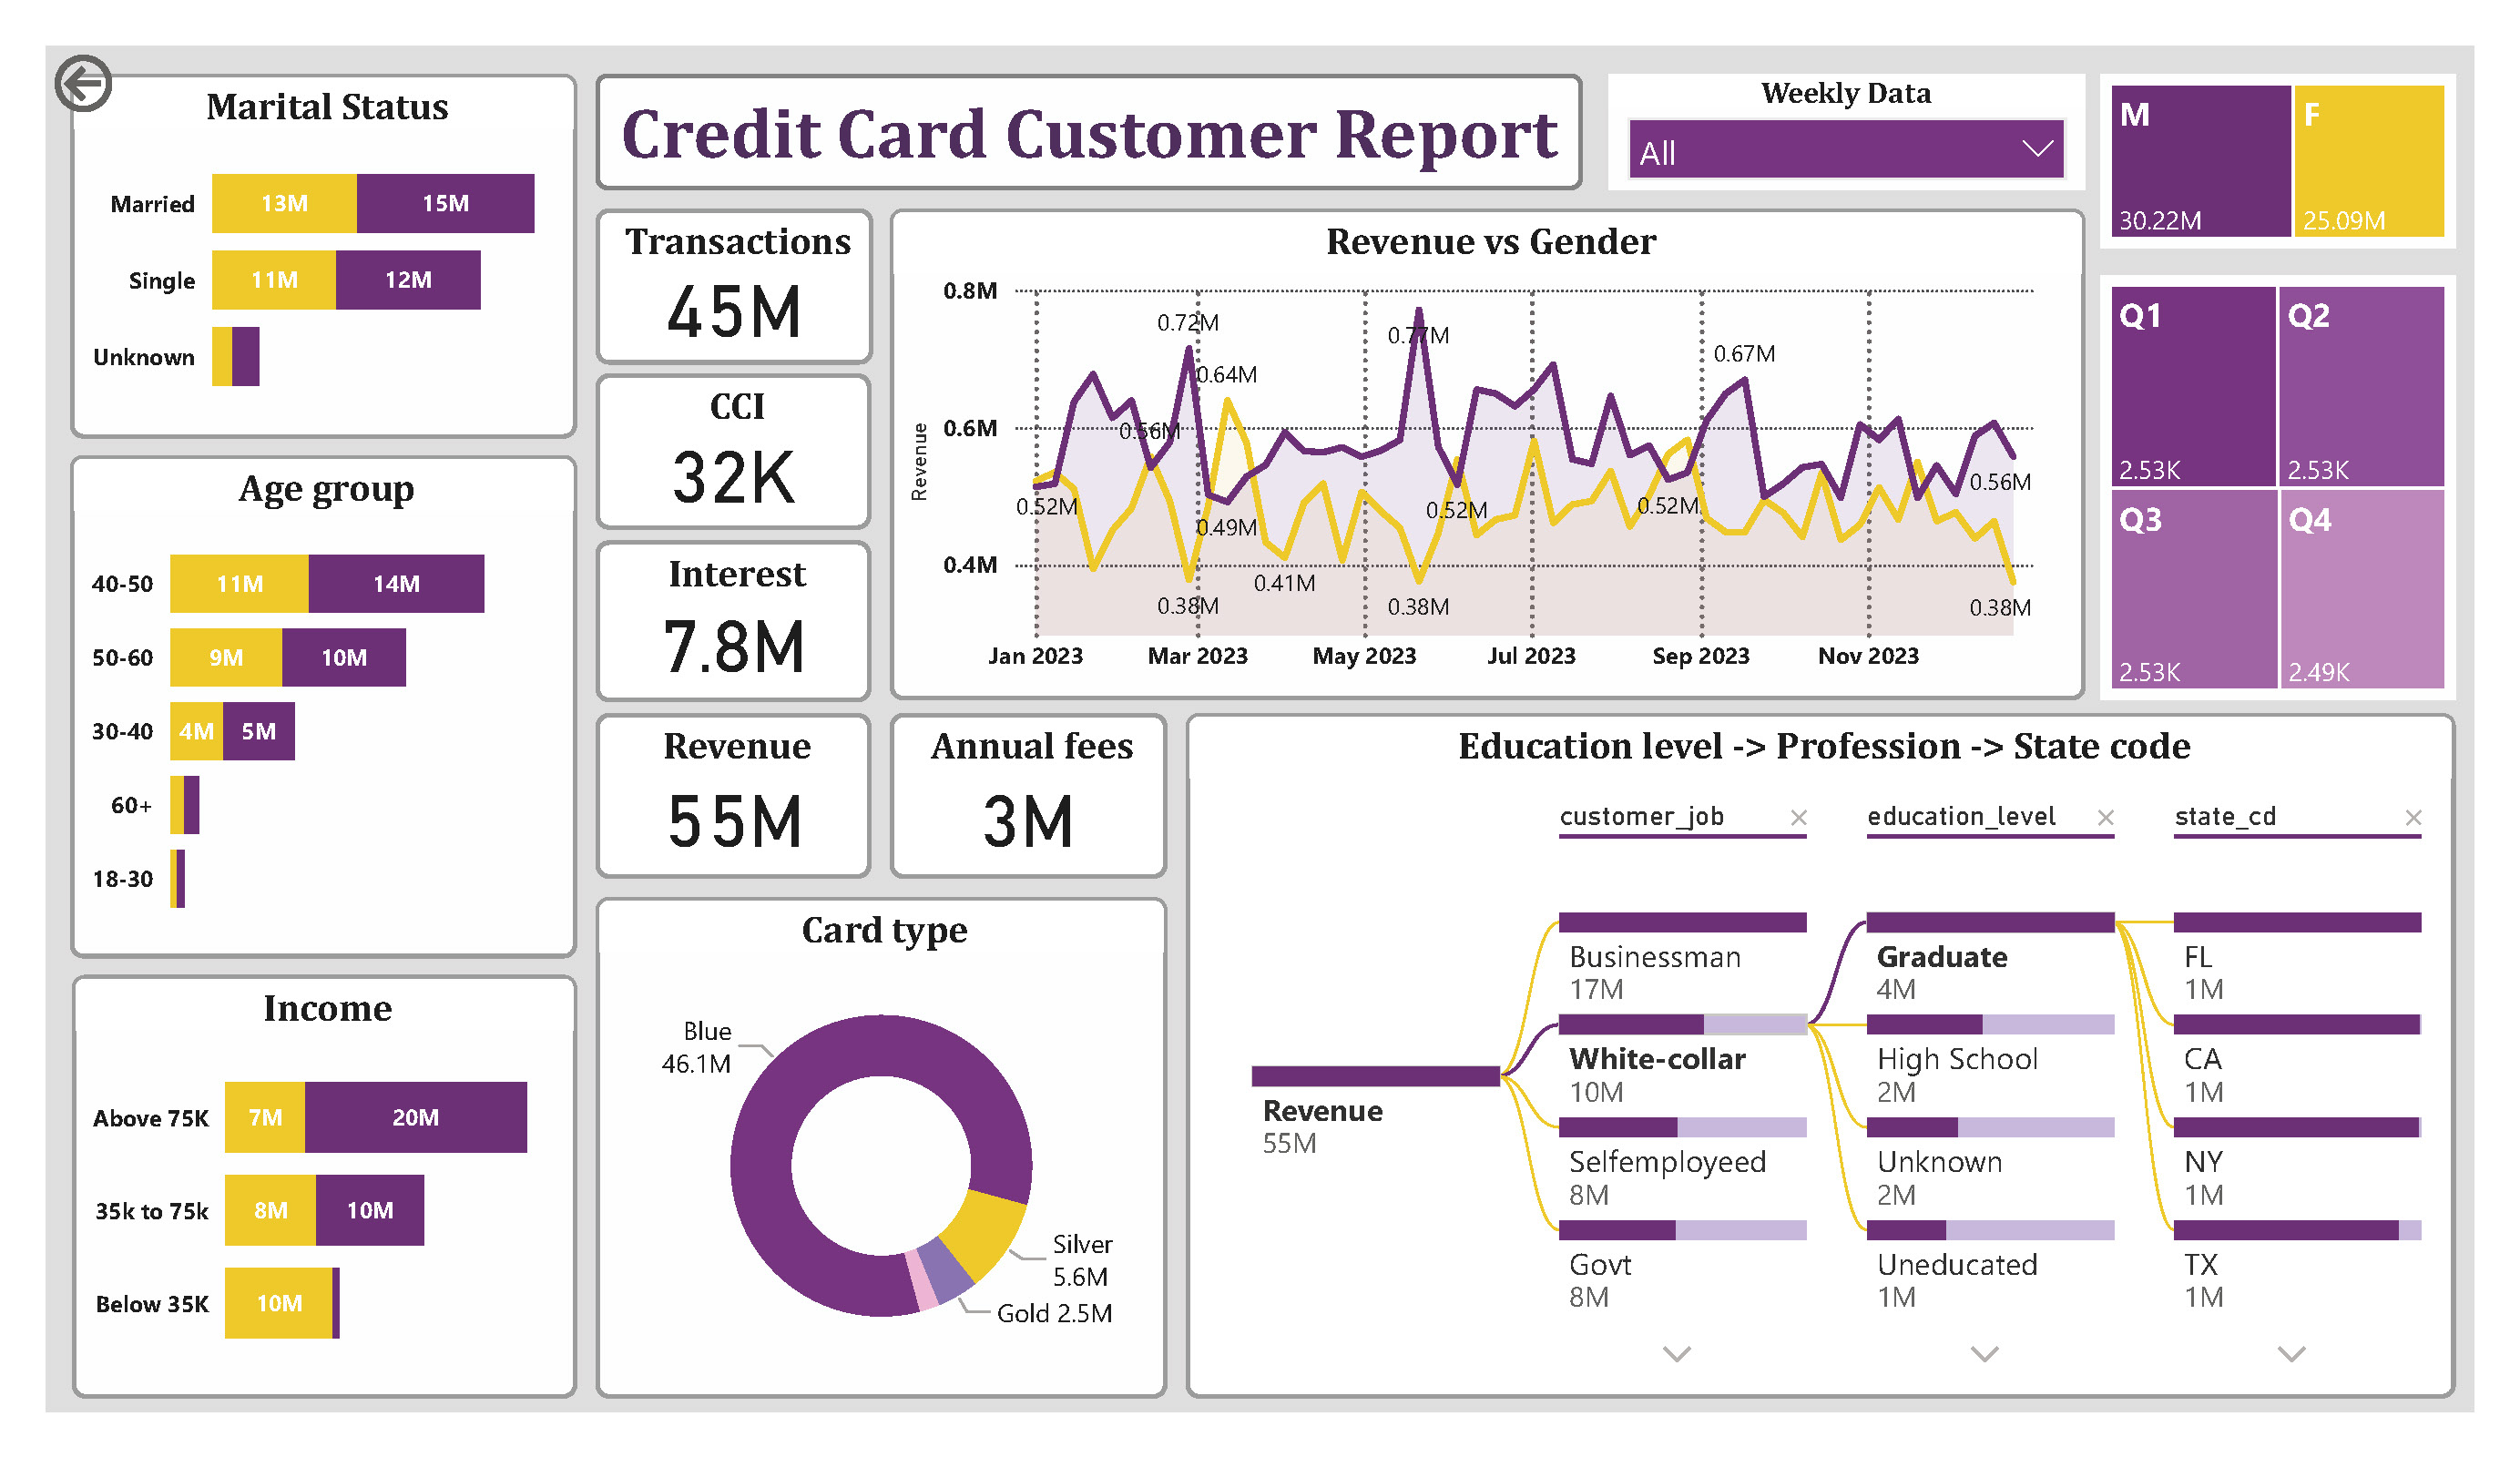

Layout of this report page (visuals, bound fields, positions):
{"tool":"powerbi","page":{"name":"Page 1","canvas":[1280,720],"ordinal":0},"visuals":[{"type":"textbox","box":[289.8,14.9,520,61],"z":0},{"type":"lineChart","title":"Revenue vs Gender","fields":{"Y":["Sum(public cc_detail.Revenue)"],"Category":["public cc_detail.week_start_date"],"Series":["public cust_detail.gender"]},"box":[445.4,85.9,629.5,258.9],"z":1000},{"type":"treemap","fields":{"Group":["public cust_detail.gender"],"Values":["Sum(public cc_detail.Revenue)"]},"box":[1083.5,14.9,186.6,92.1],"z":2000},{"type":"treemap","fields":{"Values":["Count(public cc_detail.Revenue)"],"Group":["public cc_detail.qtr"]},"box":[1083.5,120.7,186.6,223.9],"z":3000},{"type":"barChart","title":"Income","fields":{"Category":["public cust_detail.Income_group"],"Y":["Sum(public cc_detail.Revenue)"],"Series":["public cust_detail.gender"]},"box":[13.7,490.1,266.2,222.7],"z":4000},{"type":"barChart","title":"Marital Status","fields":{"Category":["public cust_detail.marital_status"],"Y":["Sum(public cc_detail.Revenue)"],"Series":["public cust_detail.gender"]},"box":[13.5,14.7,266.3,192.6],"z":5000},{"type":"barChart","title":"Age group","fields":{"Y":["Sum(public cc_detail.Revenue)"],"Series":["public cust_detail.gender"],"Category":["public cust_detail.Age_group"]},"box":[13.5,216,266.3,265],"z":6000},{"type":"decompositionTreeVisual","title":"Education level -> Profession -> State code","fields":{"Analyze":["Sum(public cc_detail.Revenue)"],"ExplainBy":["public cust_detail.customer_job","public cust_detail.education_level","public cust_detail.state_cd"]},"box":[600.8,352,669.3,360.7],"z":7000},{"type":"card","title":"CCI","fields":{"Values":["Sum(public cust_detail.cust_satisfaction_score)"]},"box":[289.8,172.9,145.5,82.1],"z":8000},{"type":"card","title":"Revenue","fields":{"Values":["Sum(public cc_detail.Revenue)"]},"box":[289.8,352,145.5,87.1],"z":9000},{"type":"card","title":"Interest","fields":{"Values":["Sum(public cc_detail.interest_earned)"]},"box":[289.8,261.2,145.5,84.6],"z":10000},{"type":"card","title":"Annual fees","fields":{"Values":["Sum(public cc_detail.annual_fees)"]},"box":[445.3,352,145.5,87.1],"z":11000},{"type":"donutChart","title":"Card type","fields":{"Category":["public cc_detail.card_category"],"Y":["Sum(public cc_detail.Revenue)"]},"box":[289.8,449.1,301,263.7],"z":12000},{"type":"slicer","title":"Weekly Data","fields":{"Values":["public cc_detail.week_start_date"]},"box":[823.5,14.9,251.3,61],"z":13000},{"type":"actionButton","box":[0,0,100,40],"z":14000},{"type":"card","title":"Transactions","fields":{"Values":["Sum(public cc_detail.total_trans_amt)"]},"box":[289.6,85.9,146,82.2],"z":15000}]}

Visuals, with their boxes in screenshot pixels (x1, y1, x2, y2):
textbox: <region>596, 74, 1582, 189</region>
"Revenue vs Gender" lineChart: <region>891, 209, 2086, 699</region>
treemap - public cust_detail.gender x Sum(public cc_detail.Revenue): <region>2102, 74, 2455, 249</region>
treemap - Count(public cc_detail.Revenue) x public cc_detail.qtr: <region>2102, 274, 2455, 699</region>
"Income" barChart: <region>72, 975, 576, 1398</region>
"Marital Status" barChart: <region>71, 74, 576, 439</region>
"Age group" barChart: <region>71, 455, 576, 958</region>
"Education level -> Profession -> State code" decompositionTreeVisual: <region>1186, 713, 2455, 1398</region>
"CCI" card: <region>596, 373, 872, 529</region>
"Revenue" card: <region>596, 713, 872, 879</region>
"Interest" card: <region>596, 541, 872, 701</region>
"Annual fees" card: <region>891, 713, 1167, 879</region>
"Card type" donutChart: <region>596, 898, 1167, 1398</region>
"Weekly Data" slicer: <region>1608, 74, 2085, 189</region>
actionButton: <region>46, 46, 235, 121</region>
"Transactions" card: <region>595, 209, 872, 364</region>
